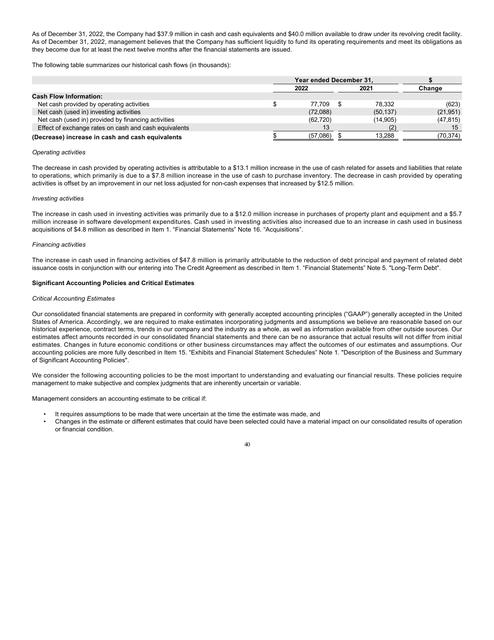box: (31, 74, 463, 142)
